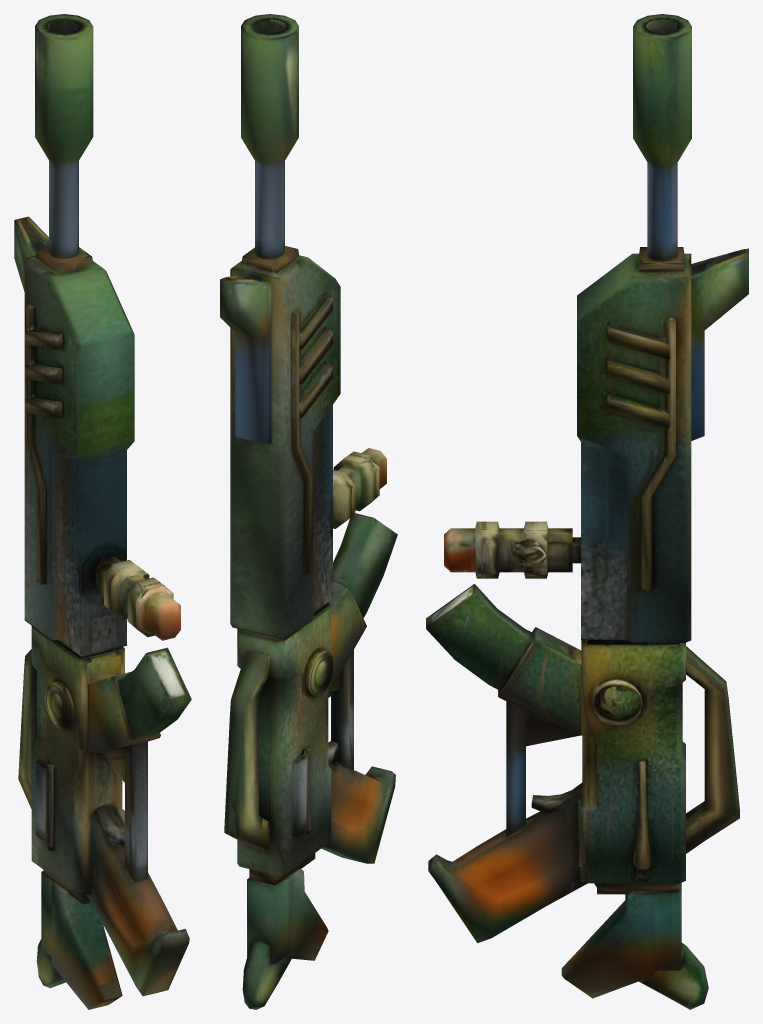
The model's file is Rifle_Forest.fbx.
3 renders of one model, left to right at view 1: azimuth 30°, elevation 25°; view 2: azimuth 150°, elevation 25°; view 3: azimuth 270°, elevation 25°, orthographic.
Visible parts, largest first — view 1: Mesh_0; view 2: Mesh_0; view 3: Mesh_0.
Part boxes in pixels (x1,y1,x2,y2): Mesh_0: [14, 14, 191, 1009]; Mesh_0: [220, 14, 397, 1009]; Mesh_0: [426, 14, 748, 1009].
Size of the model in its own units: 76.49 by 1000 by 297.
Materials: 1 (1 with a texture image).
